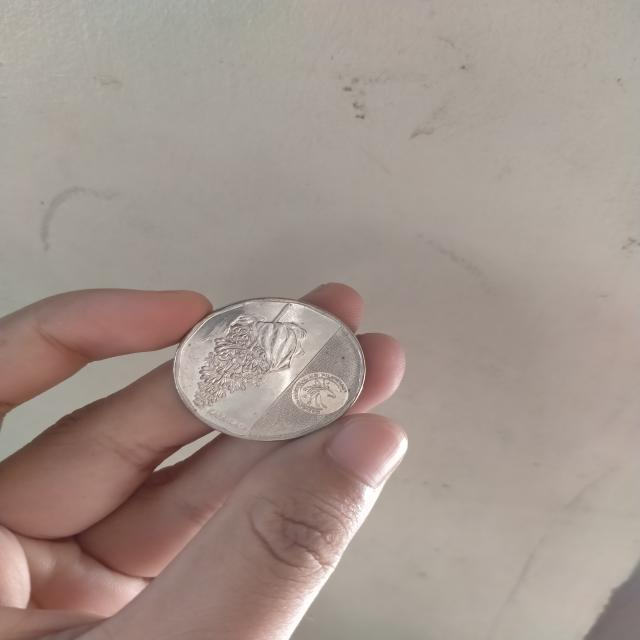10_New_Back: (186, 302, 311, 420)
